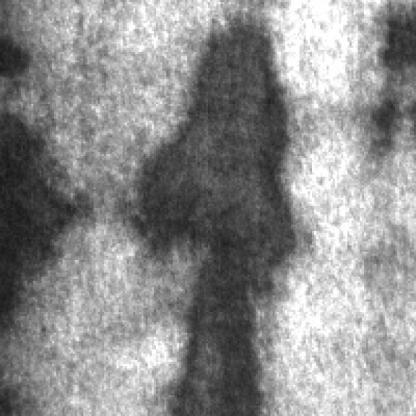patches: (126, 24, 297, 416), (0, 114, 83, 331)
